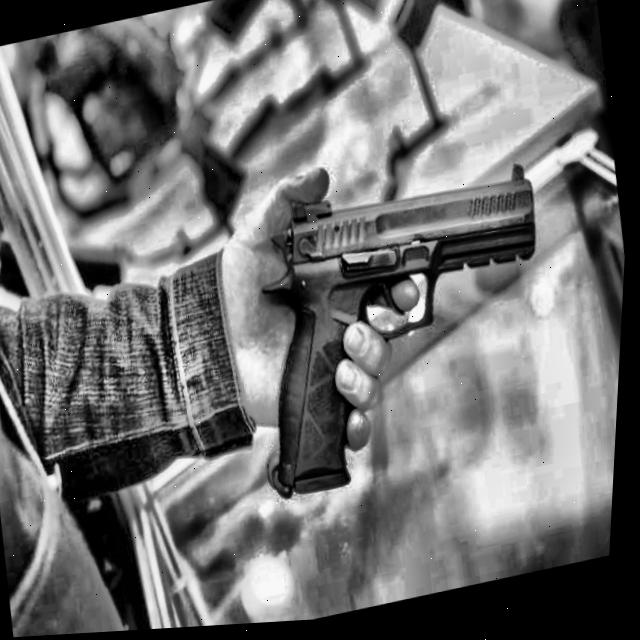pistol: (249, 154, 549, 511)
